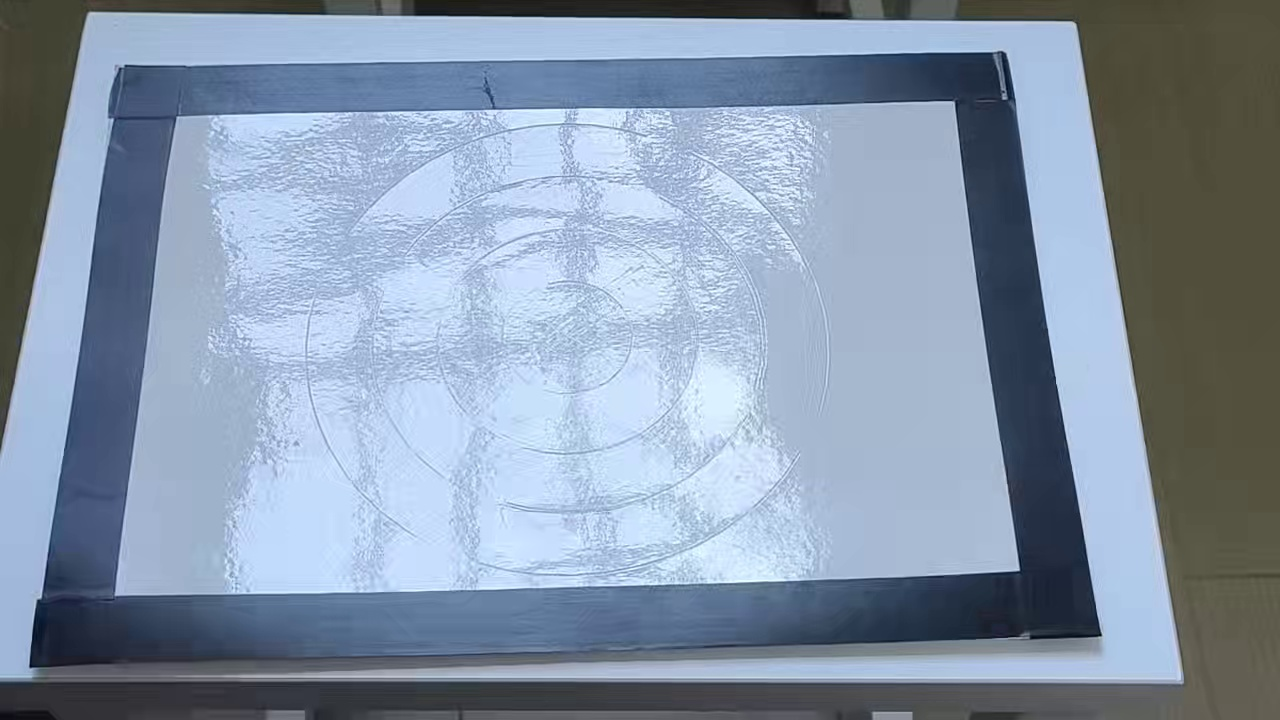board: (27, 47, 1101, 661)
